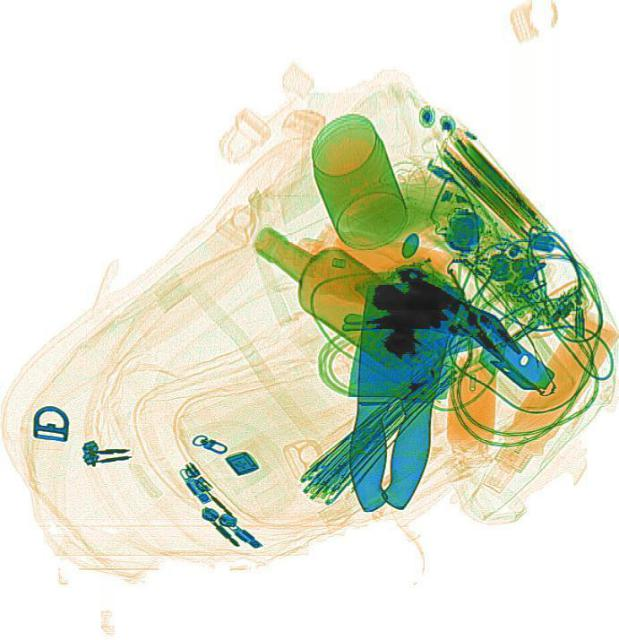Knife: (326, 272, 466, 518), (325, 271, 461, 509)
